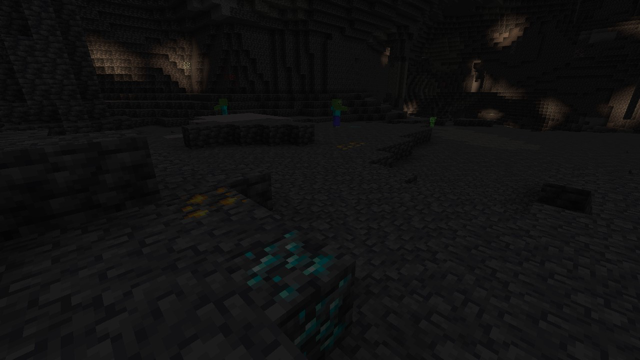diamond: (229, 226, 352, 352)
gold: (179, 183, 251, 222), (334, 140, 368, 151)
